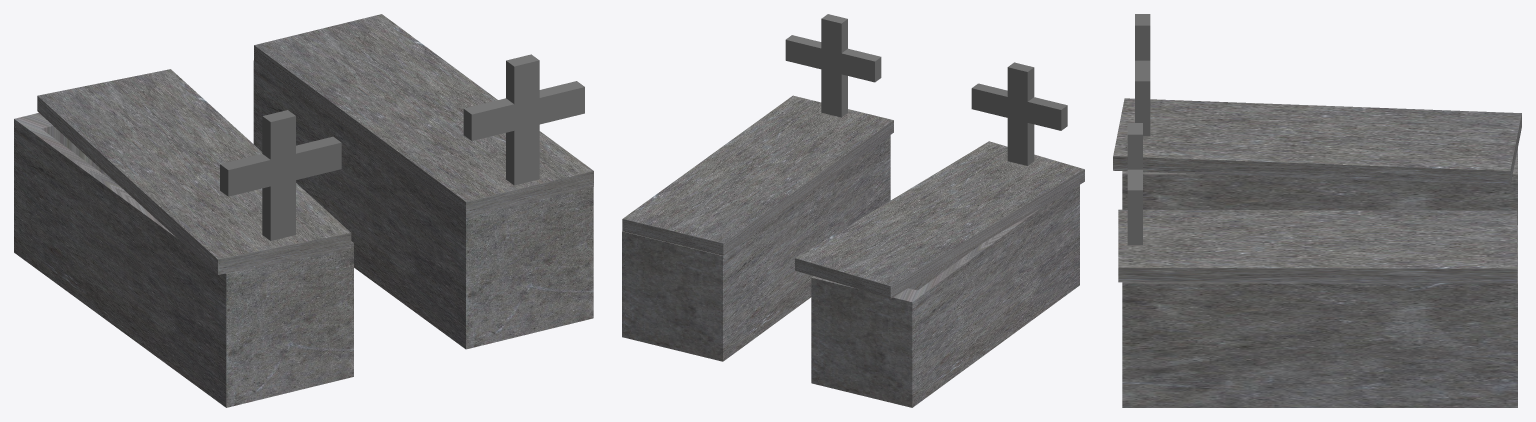
The model's file is Grave.fbx.
The picture shows the model from 3 angles, left to right: view 1: azimuth 30°, elevation 25°; view 2: azimuth 150°, elevation 25°; view 3: azimuth 270°, elevation 25°; orthographic projection. The views are drawn at different scales.
Visible parts, largest first — view 1: Sarcofago.001, Sarcofago, Tampa, Tampa.001, Cube.001, Cube; view 2: Sarcofago.001, Sarcofago, Tampa.001, Tampa, Cube.001, Cube; view 3: Sarcofago, Tampa, Tampa.001, Sarcofago.001, Cube, Cube.001.
Boxes of the visible parts, x1,y1,x2,y2 form: Sarcofago.001: (14,113,353,407); Sarcofago: (253,60,593,349); Tampa: (254,14,593,217); Tampa.001: (37,69,351,274); Cube.001: (220,110,341,240); Cube: (463,54,584,185); Sarcofago.001: (811,185,1079,407); Sarcofago: (622,135,890,361); Tampa.001: (795,141,1084,298); Tampa: (622,95,893,255); Cube.001: (971,62,1067,165); Cube: (785,14,881,117); Sarcofago: (1122,225,1517,407); Tampa: (1118,209,1517,283); Tampa.001: (1113,98,1521,185); Sarcofago.001: (1122,148,1517,224); Cube: (1127,123,1142,245); Cube.001: (1135,14,1150,136).
Bounding box in the file's own units: 586 × 401 × 594.
Materials: 6 (4 with a texture image).
